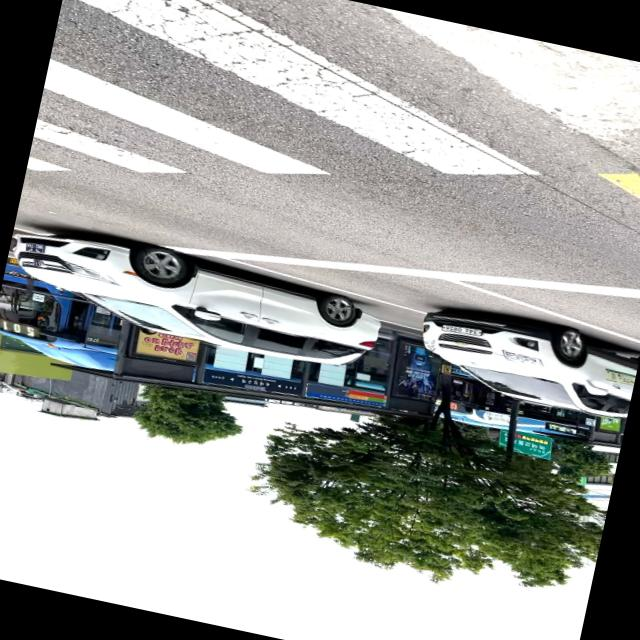building: (0, 341, 127, 434)
car: (1, 215, 388, 378), (409, 295, 640, 423)
